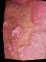plaque psoriasis: (24, 0, 46, 33), (7, 22, 23, 39)
